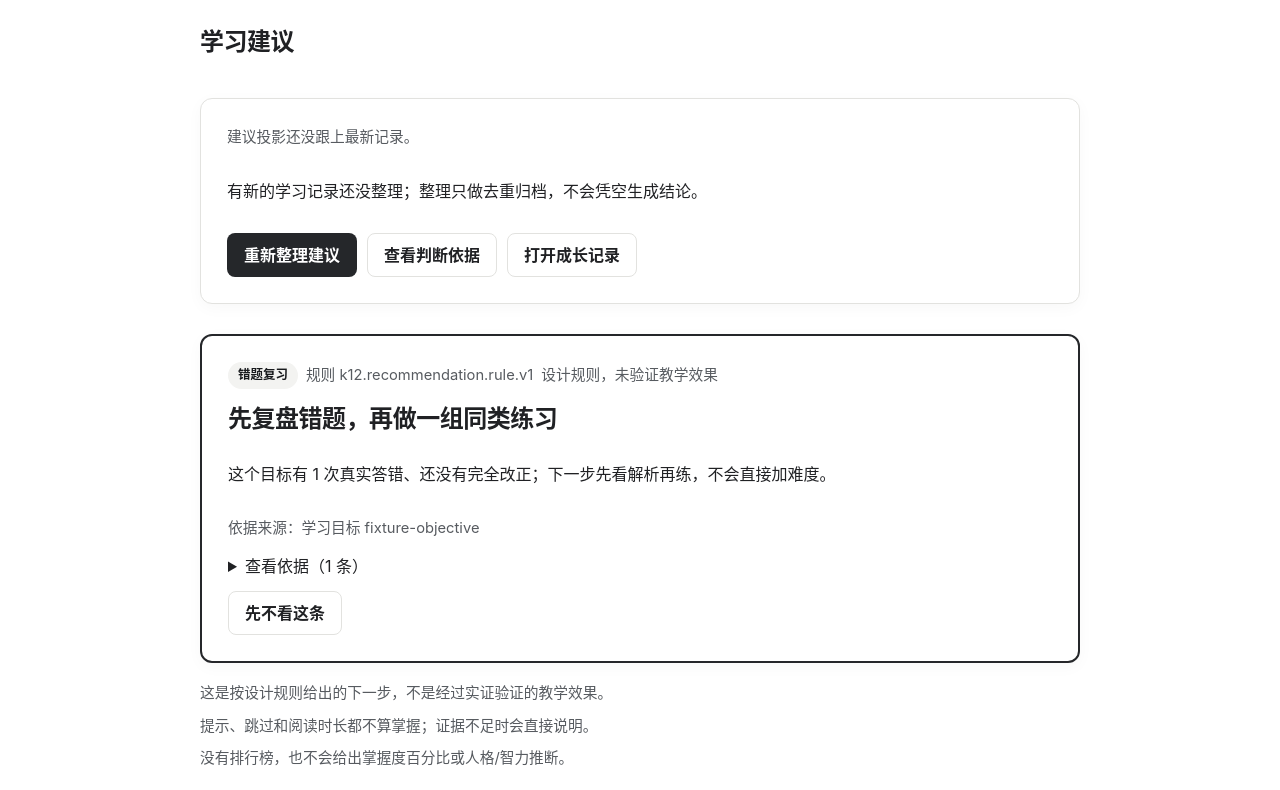
Test case: next step page (T19 L2/L3/L9/L11) › refreshes only on an explicit click and reports the idempotent result
Click the button with test id "next-refresh" at [292, 255], box [227,233,357,277]
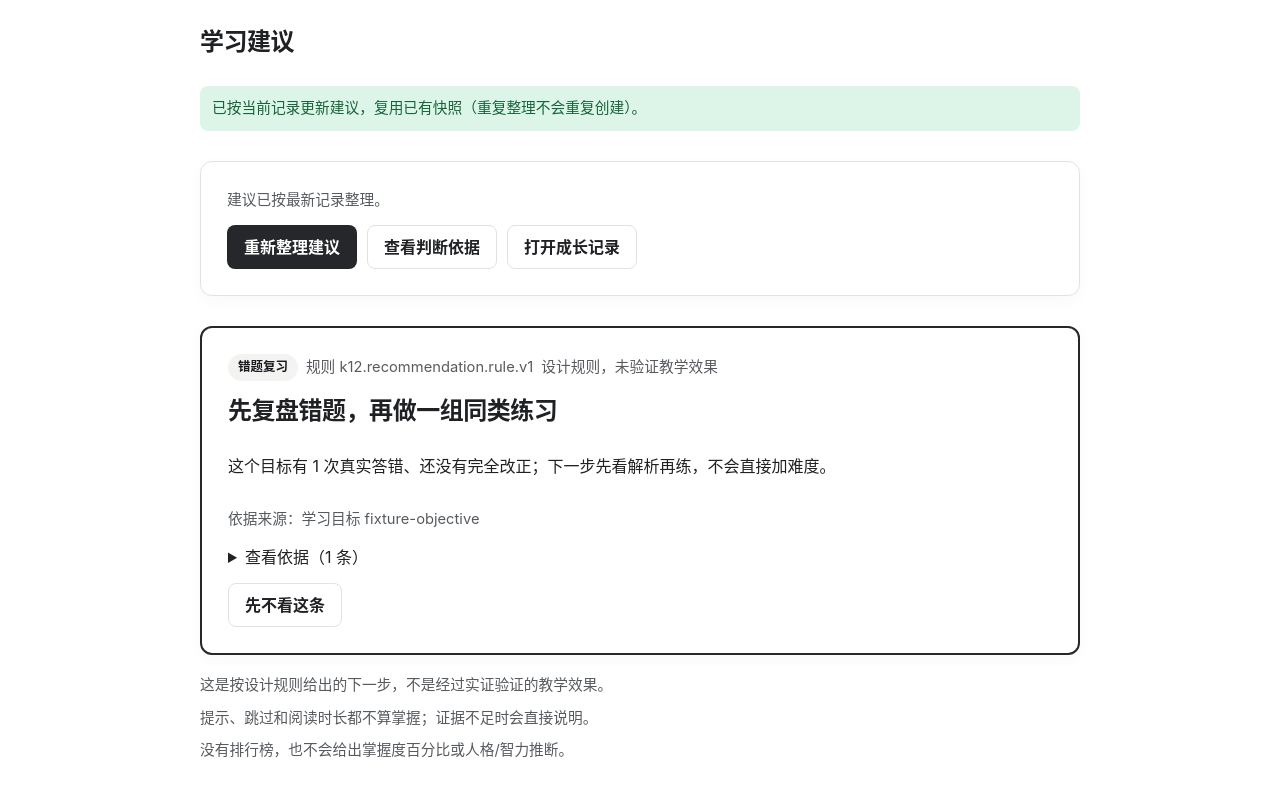
Result: the message with test id "next-notice-last" shows "重复整理不会重复创建" at [212,99,646,117]
